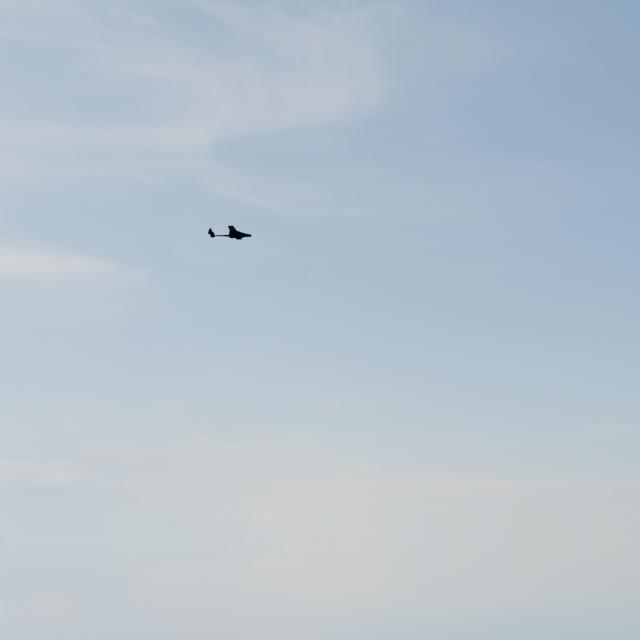Airaplan: (208, 225, 253, 240)
